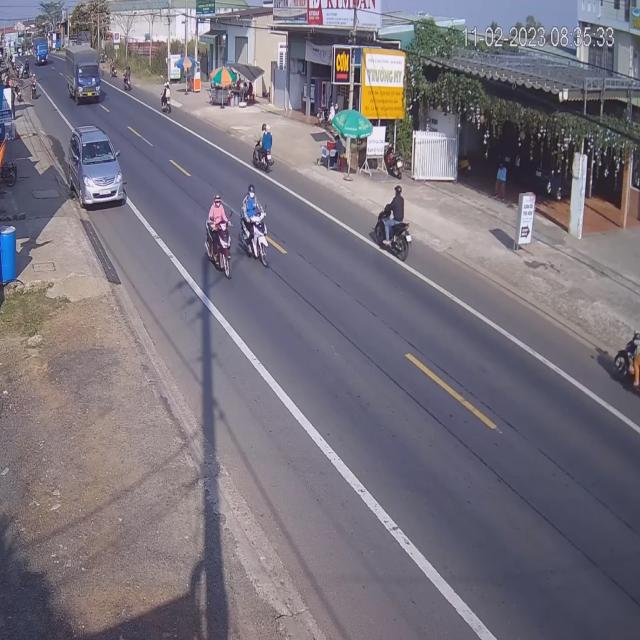car: (67, 128, 125, 211)
motorbike: (371, 186, 408, 263), (239, 185, 267, 268), (206, 192, 233, 276), (614, 320, 640, 400), (254, 124, 276, 173), (161, 82, 172, 116), (122, 68, 130, 93)
truck: (67, 48, 101, 104), (32, 36, 49, 68)
